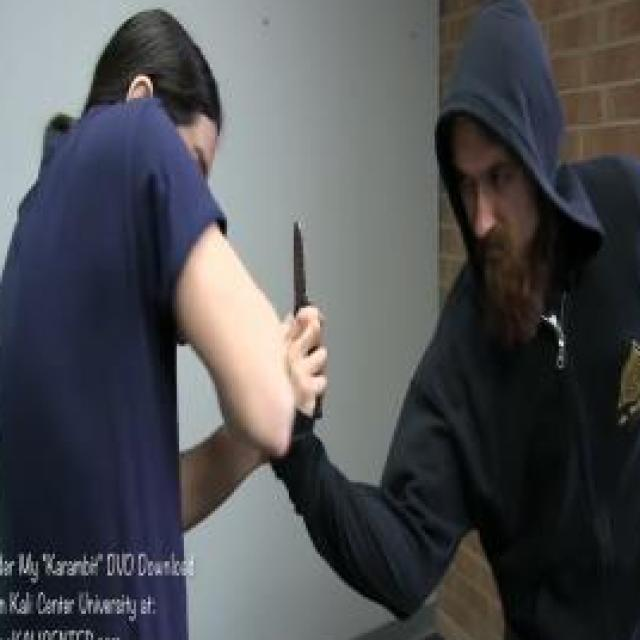knife: (282, 210, 328, 402)
